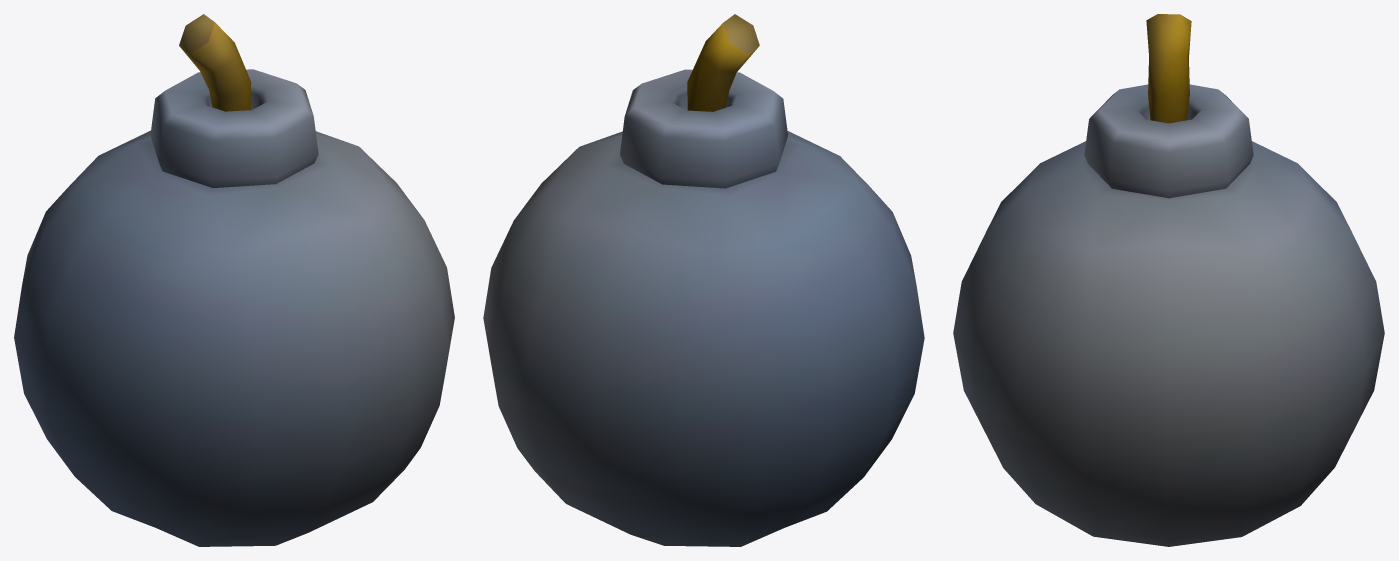
File: bomb.glb
3 views of the same model, side by side, from view 1: azimuth 30°, elevation 25°; view 2: azimuth 150°, elevation 25°; view 3: azimuth 270°, elevation 25° (orthographic). The views are drawn at different scales.
Parts seen in each view (by area): view 1: bomb3; view 2: bomb3; view 3: bomb3.
Boxes of the visible parts, left/top/right/bottom form: bomb3: left=14, top=14, right=454, bottom=546; bomb3: left=483, top=14, right=924, bottom=546; bomb3: left=953, top=14, right=1384, bottom=546.
Bounding box in the file's own units: 0.2209 × 0.28 × 0.2209.
Materials: 1 (1 with a texture image).
